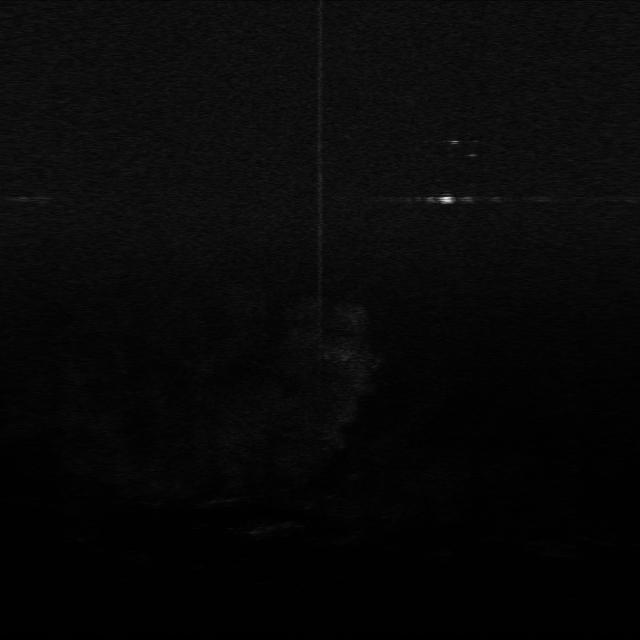rov: (432, 191, 462, 208)
